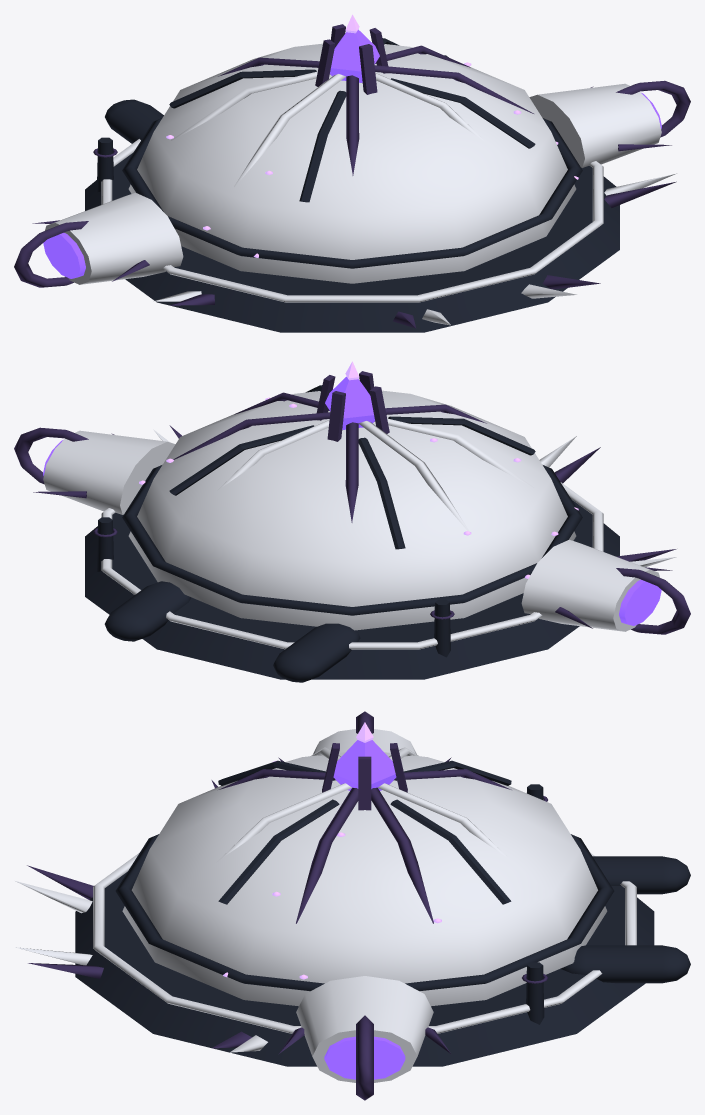
Rendered from bastion-hadron.glb.
The picture shows the model from 3 angles, top to bottom: view 1: azimuth 30°, elevation 25°; view 2: azimuth 150°, elevation 25°; view 3: azimuth 270°, elevation 25°; orthographic projection. The views are drawn at different scales.
Parts seen in each view (by area): view 1: pressure_dome, plinth, dock_port_throat, dock_starboard_throat, equator_band, plinth_band, ballast_tank_l, dock_port_lip, apex_lantern, dock_port_mouth, reinforce_rib_0_r, conduit_aft_l (+12 smaller); view 2: pressure_dome, plinth, dock_port_throat, dock_starboard_throat, equator_band, plinth_band, ballast_tank_l, ballast_tank_r, dock_port_lip, apex_lantern, dock_port_mouth, reinforce_rib_0_l (+13 smaller); view 3: pressure_dome, plinth, dock_starboard_throat, equator_band, plinth_band, ballast_tank_r, ballast_tank_l, dock_starboard_mouth, apex_lantern, reinforce_rib_3_r, reinforce_rib_3_l, dock_starboard_lip (+13 smaller).
Boxes of the visible parts, x1,y1,x2,y2 form: pressure_dome: (128,43,576,283); plinth: (85,152,619,332); dock_port_throat: (45,192,183,284); dock_starboard_throat: (529,83,661,167); equator_band: (122,118,582,268); plinth_band: (101,139,603,302); ballast_tank_l: (105,99,163,143); dock_port_lip: (14,221,88,287); apex_lantern: (330,29,379,82); dock_port_mouth: (43,232,85,278); reinforce_rib_0_r: (234,74,345,187); conduit_aft_l: (299,90,346,202); pressure_dome: (128,390,576,630); plinth: (85,499,619,679); dock_port_throat: (521,539,659,631); dock_starboard_throat: (43,430,175,514); equator_band: (122,465,582,615); plinth_band: (101,482,603,649); ballast_tank_l: (273,623,360,682); ballast_tank_r: (104,581,191,641); dock_port_lip: (616,568,690,634); apex_lantern: (325,376,374,429); dock_port_mouth: (619,579,661,625); reinforce_rib_0_l: (359,421,469,531); pressure_dome: (122,752,607,1006); plinth: (75,871,654,1066); dock_starboard_throat: (296,976,433,1082); equator_band: (115,834,614,991); plinth_band: (93,852,636,1033); ballast_tank_r: (561,945,690,983); ballast_tank_l: (592,856,690,894); dock_starboard_mouth: (324,1036,405,1079); apex_lantern: (333,740,396,790); reinforce_rib_3_r: (296,787,358,923); reinforce_rib_3_l: (371,787,433,923); dock_starboard_lip: (356,1015,373,1100).
Bounding box in the file's own units: 440 × 128 × 352.
